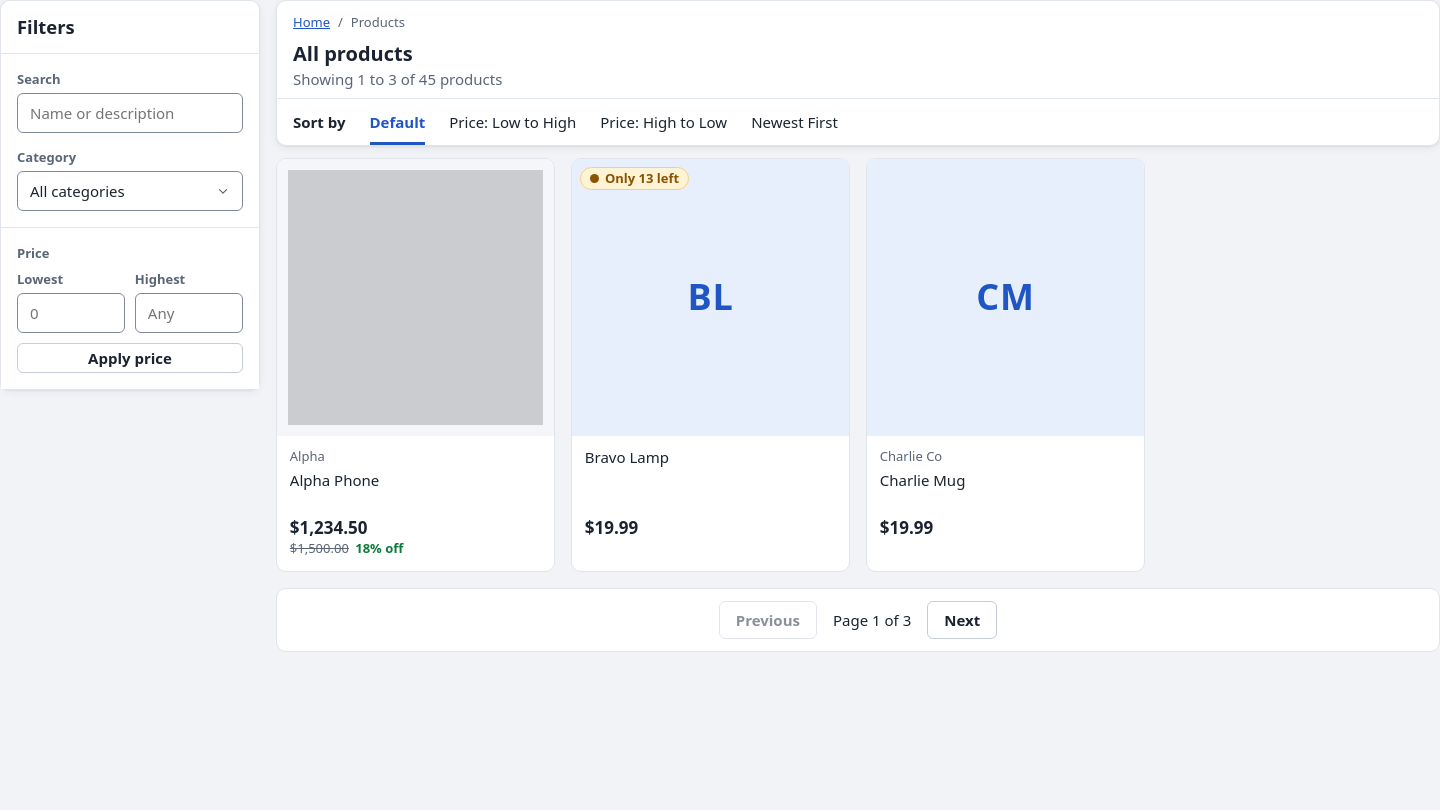
Test case: Products page: sorting, price and search text › price filter › sends the lowest and highest price to the search endpoint
Check: the link "Alpha Phone" is shown, box top-left (290, 470), bottom-right (379, 490)
Step 1. Type "100" into the field labelled "Lowest" → (71, 313), box top-left (17, 293), bottom-right (125, 333)
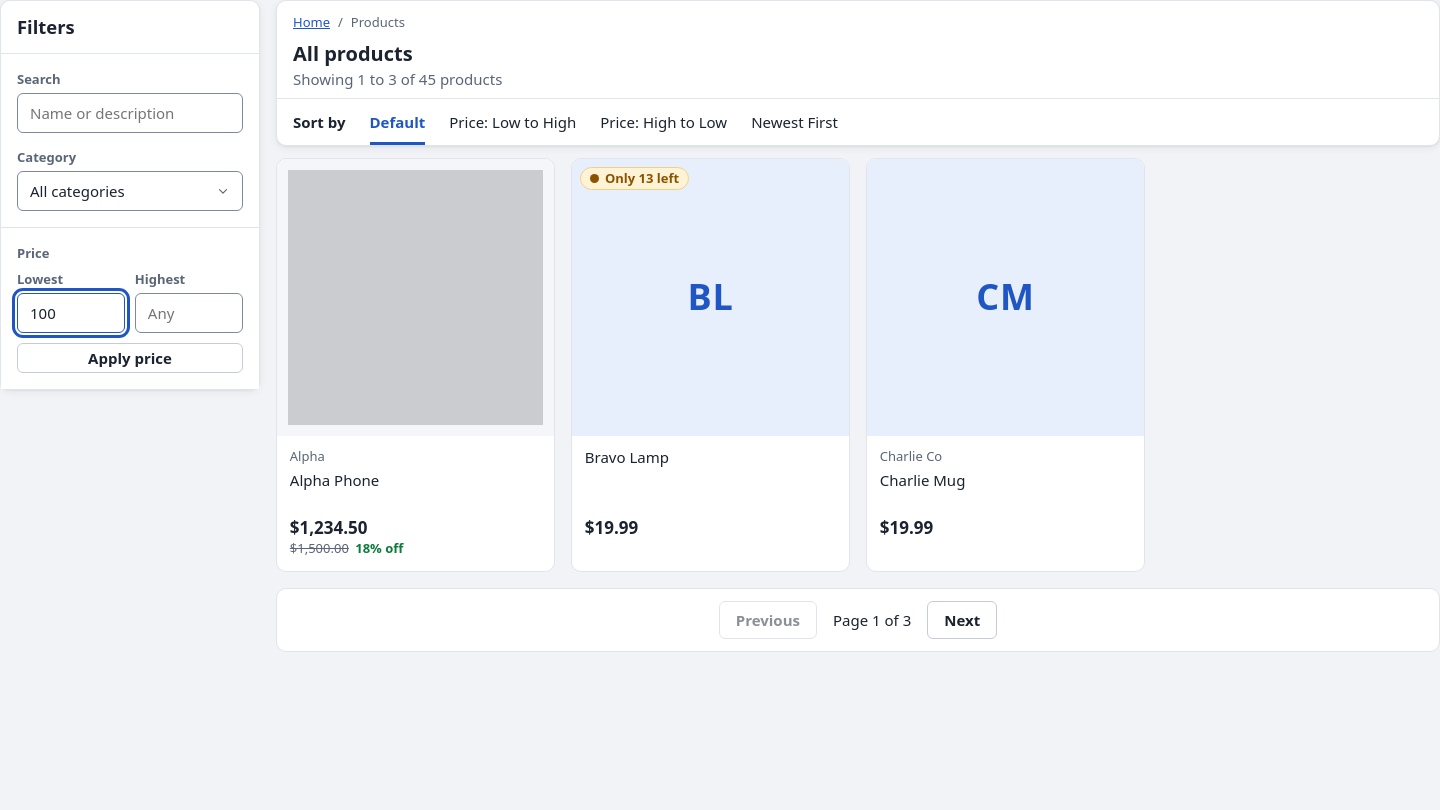
Step 2. Type "499.99" into the field labelled "Highest" → (189, 313), box top-left (135, 293), bottom-right (243, 333)
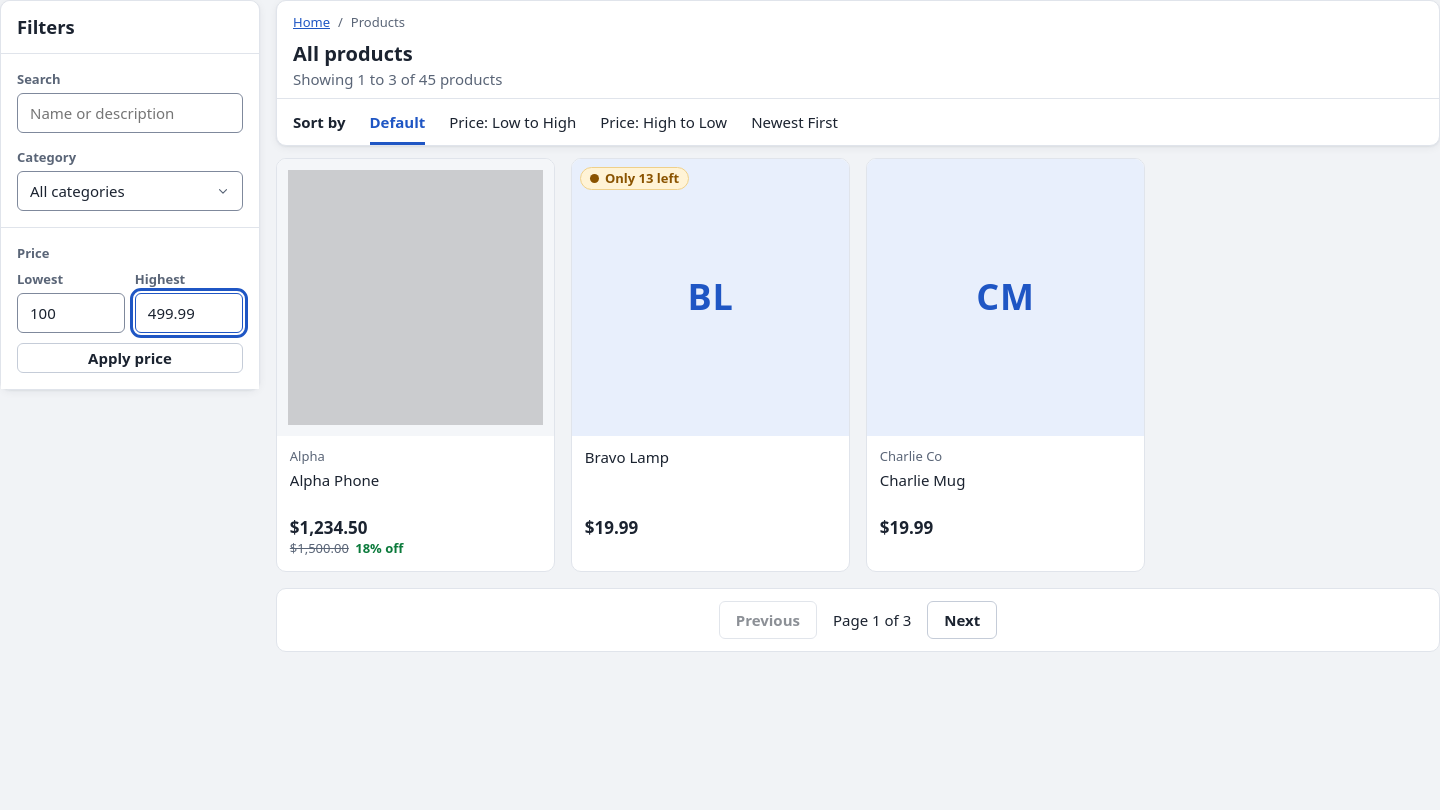
Step 3. Click the button "Apply price" → (130, 358), box top-left (17, 343), bottom-right (243, 373)
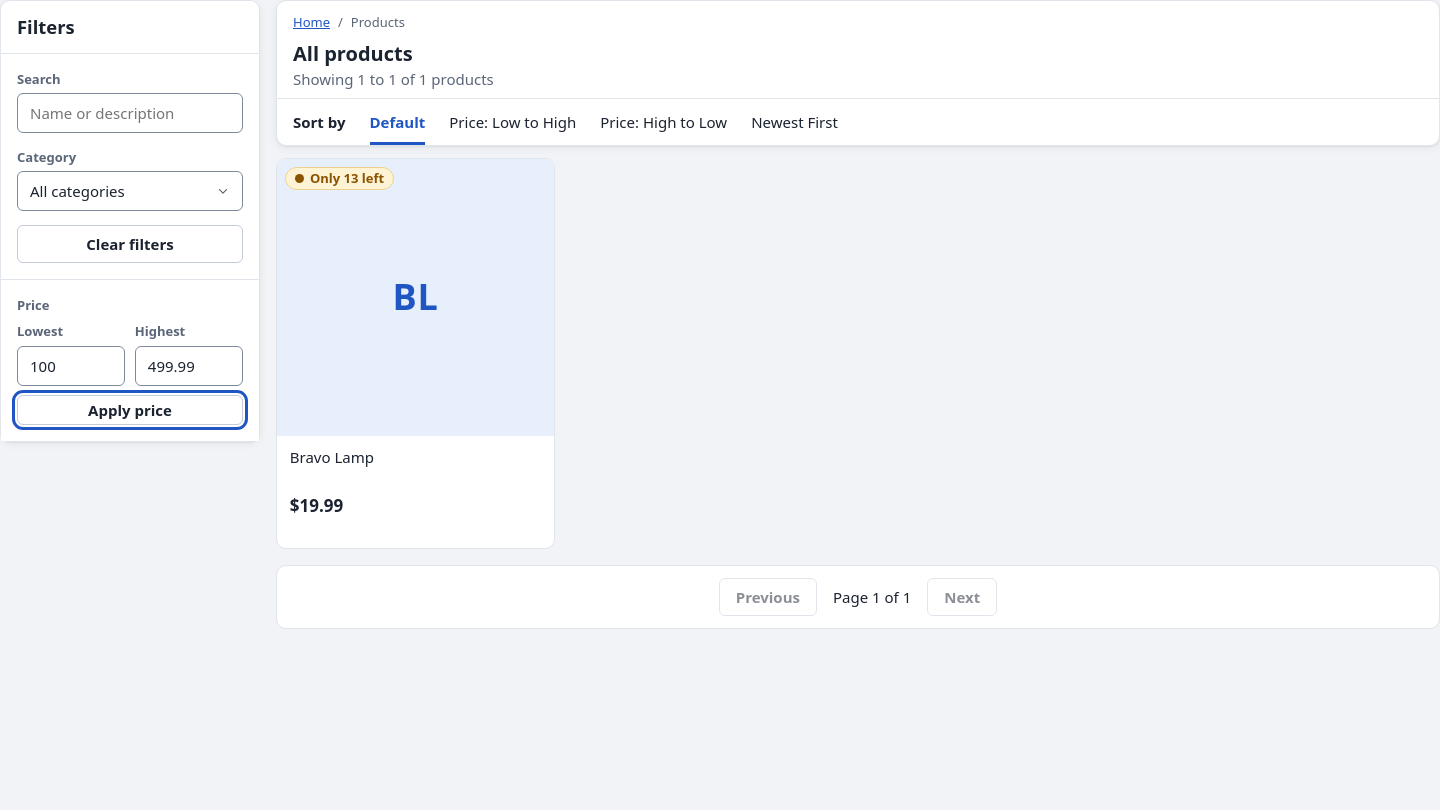
Check: the button "Clear filters" is shown, box top-left (17, 225), bottom-right (243, 263)
